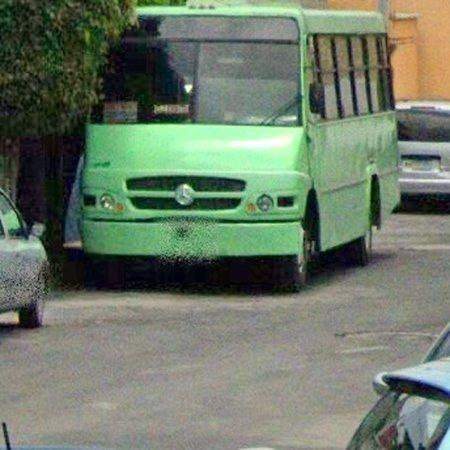buses: (81, 8, 400, 282)
